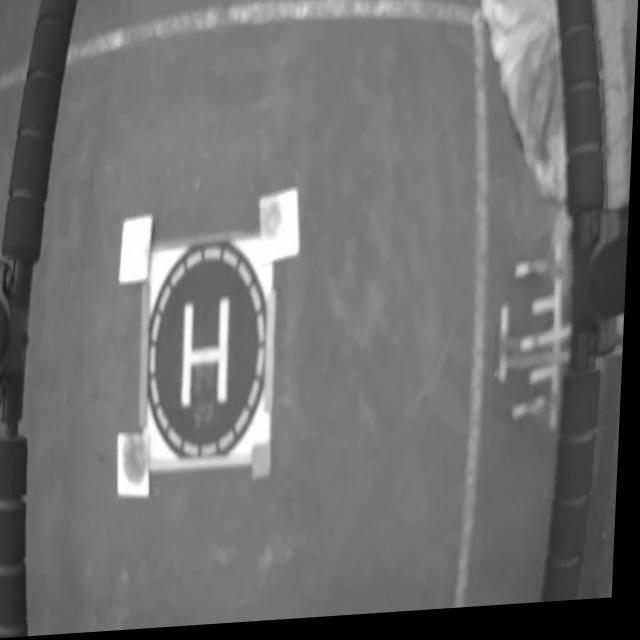Helipad: (184, 298, 234, 412)
